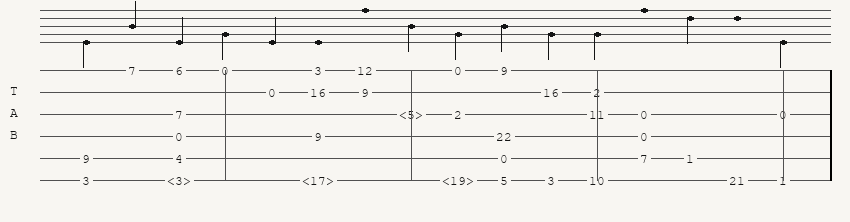0: (175, 130, 187, 142), (221, 64, 233, 76), (268, 86, 280, 98), (454, 64, 466, 76), (500, 152, 512, 164), (640, 108, 652, 120), (640, 130, 652, 142), (779, 108, 791, 120)
1: (686, 152, 698, 164), (779, 174, 791, 186)
10: (589, 174, 609, 186)
11: (589, 108, 609, 120)
12: (357, 64, 377, 76)
16: (310, 86, 330, 98), (543, 86, 563, 98)
2: (454, 108, 466, 120), (593, 86, 605, 98)
21: (729, 174, 749, 186)
22: (496, 130, 516, 142)
3: (82, 174, 94, 186), (314, 64, 326, 76), (547, 174, 559, 186)
4: (175, 152, 187, 164)
5: (500, 174, 512, 186)
6: (175, 64, 187, 76)
7: (128, 64, 140, 76), (175, 108, 187, 120), (640, 152, 652, 164)
9: (82, 152, 94, 164), (314, 130, 326, 142), (361, 86, 373, 98), (500, 64, 512, 76)
harmonic: (302, 174, 338, 187), (442, 174, 478, 187), (167, 174, 195, 187), (399, 108, 427, 121)
